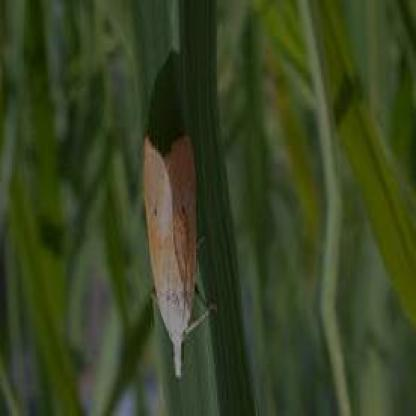stem-borer: (140, 132, 217, 378)
